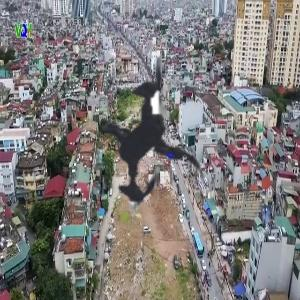drone: (30, 12, 278, 260)
